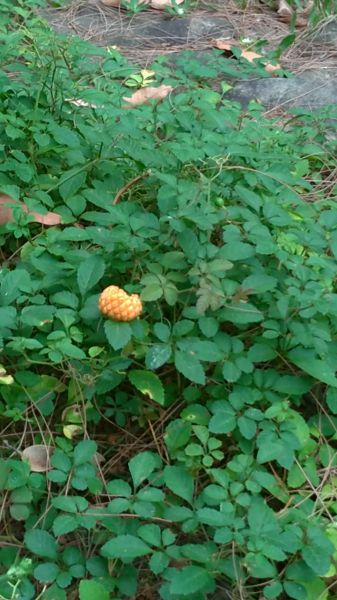eggs: (96, 277, 146, 326)
